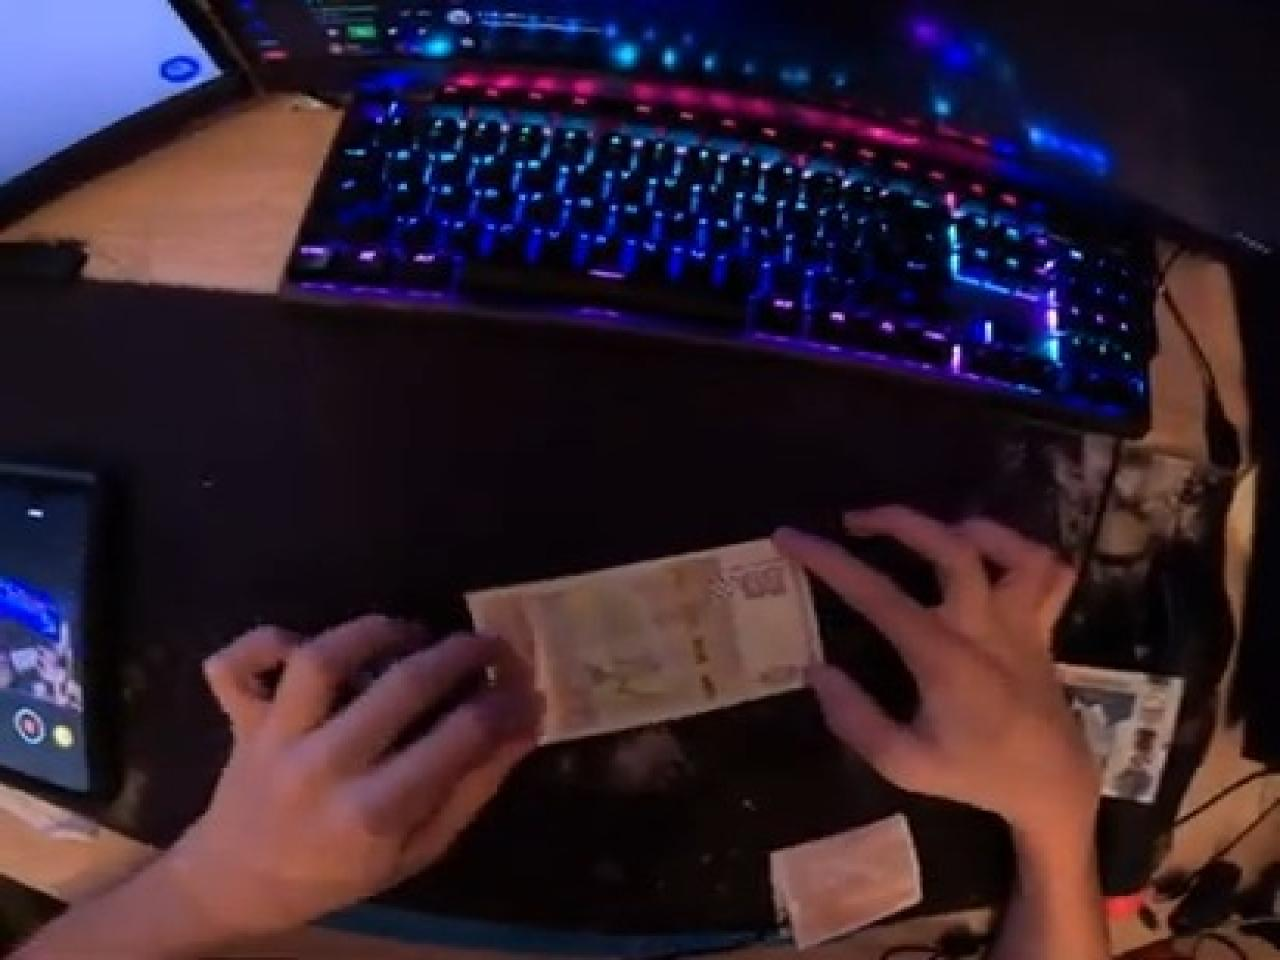50leva: (463, 542, 823, 746)
